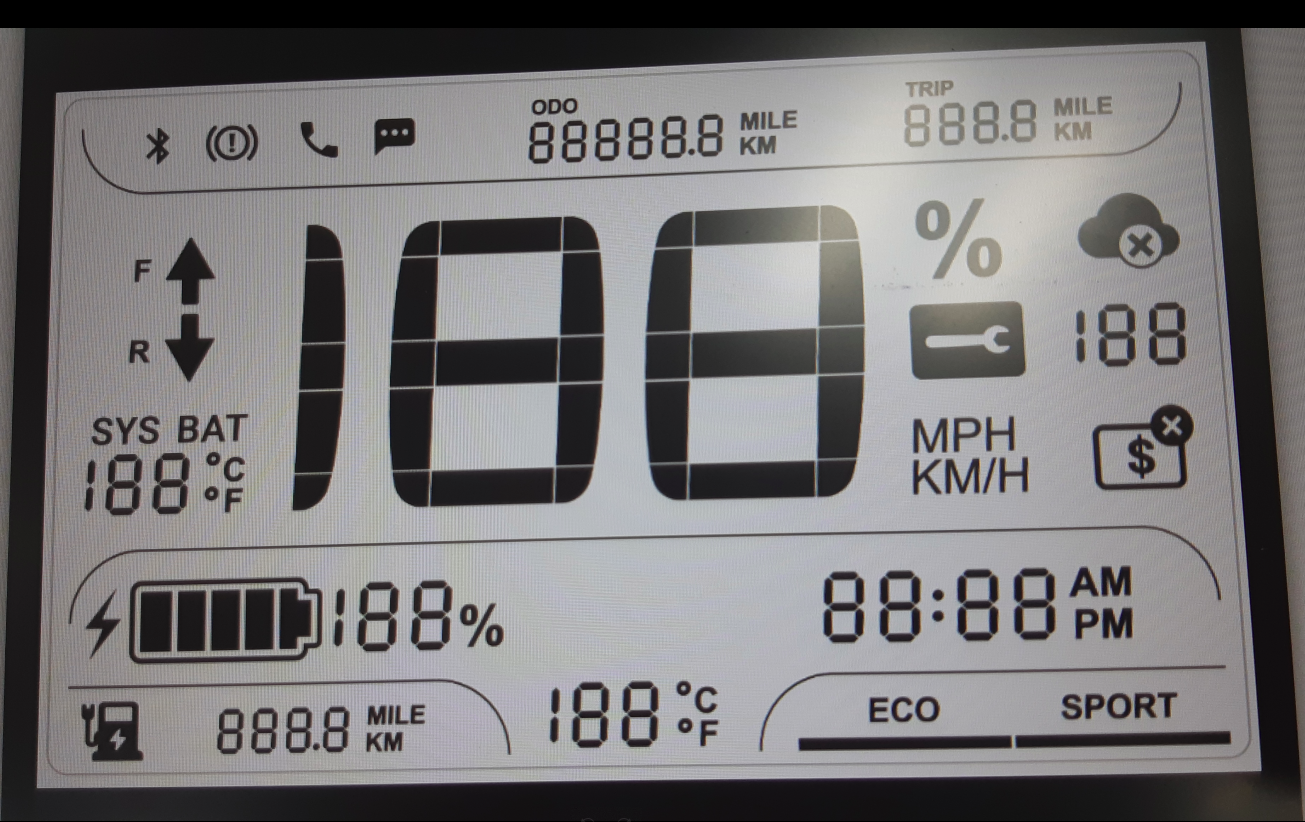bluetooth_on: (140, 122, 179, 170)
braking_on: (202, 120, 261, 165)
calling_on: (296, 115, 346, 161)
connection_lost: (1074, 189, 1184, 271)
error_code: (903, 298, 1031, 384)
low_battery: (75, 695, 148, 767)
sms_on: (370, 114, 420, 161)
vin_id: (1090, 400, 1198, 493)
